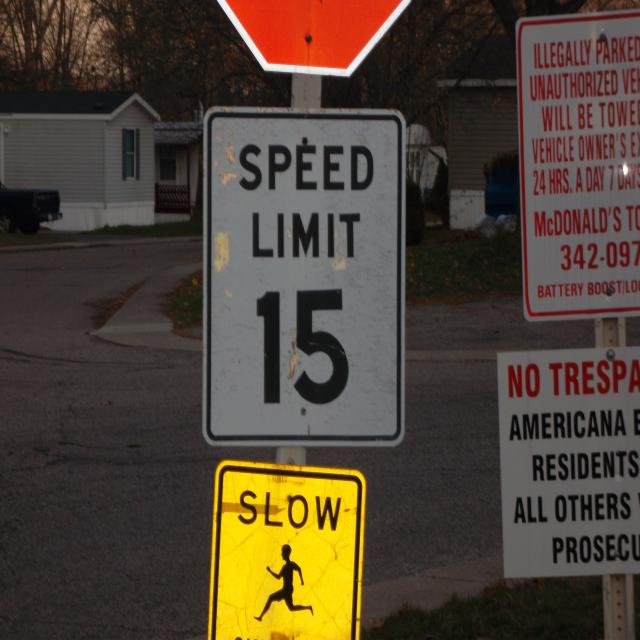regulatory: (198, 104, 410, 448)
stop: (216, 0, 412, 73)
warning: (204, 458, 367, 640)
